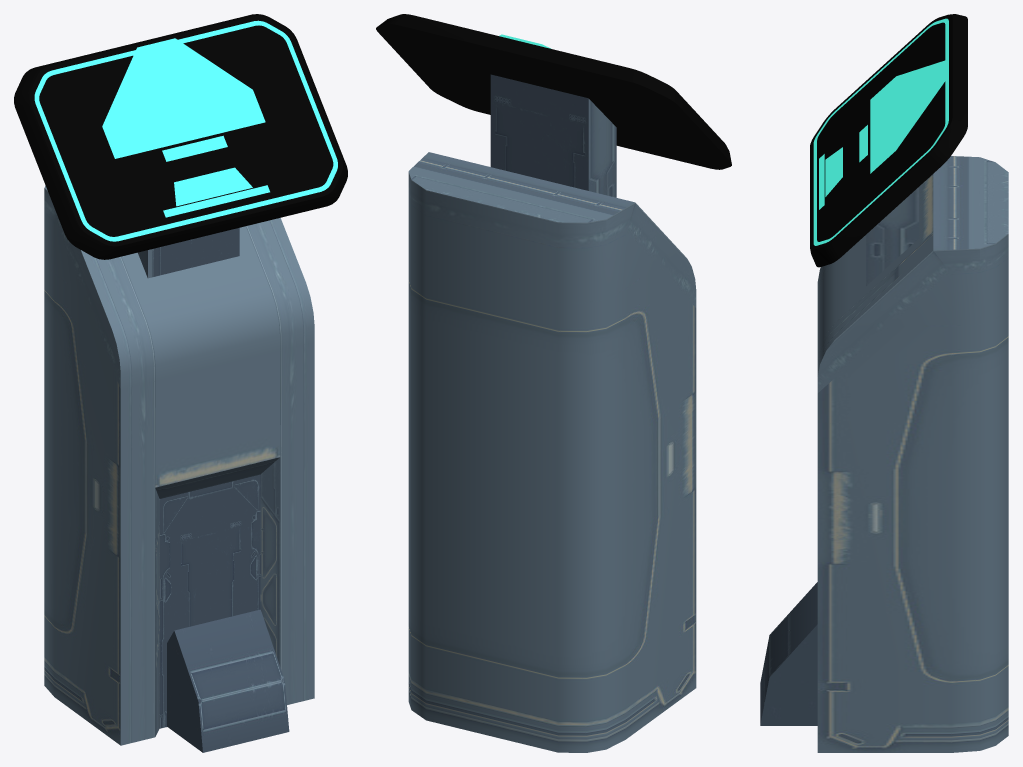
The model's file is Prop_Computer.gltf.
3 views of the same model, side by side, from view 1: azimuth 30°, elevation 25°; view 2: azimuth 150°, elevation 25°; view 3: azimuth 270°, elevation 25° (orthographic). The views are drawn at different scales.
Parts seen in each view (by area): view 1: Prop_Computer; view 2: Prop_Computer; view 3: Prop_Computer.
Boxes of the visible parts, bbox=[...] form: Prop_Computer: bbox=[14, 14, 347, 752]; Prop_Computer: bbox=[376, 14, 731, 752]; Prop_Computer: bbox=[760, 14, 1008, 752].
Size of the model in its own units: 0.7434 by 1.59 by 0.5625.
Materials: 3 (1 with a texture image).
